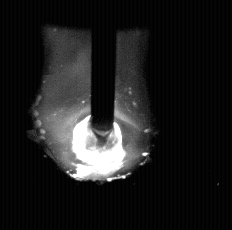arame: (92, 0, 116, 149)
poca: (41, 0, 147, 230)
